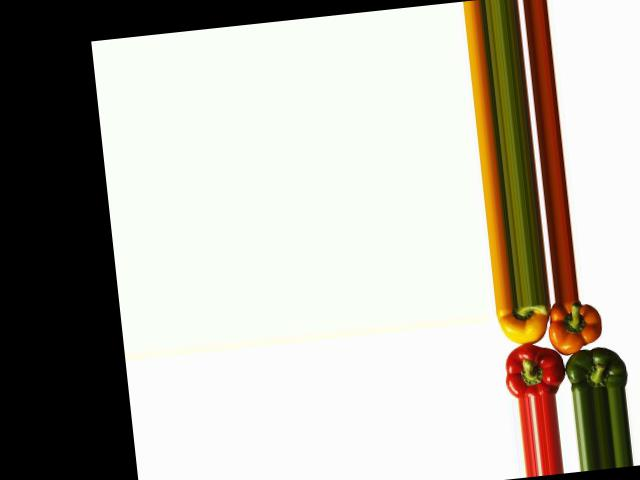bell_pepper: (494, 302, 557, 350)
